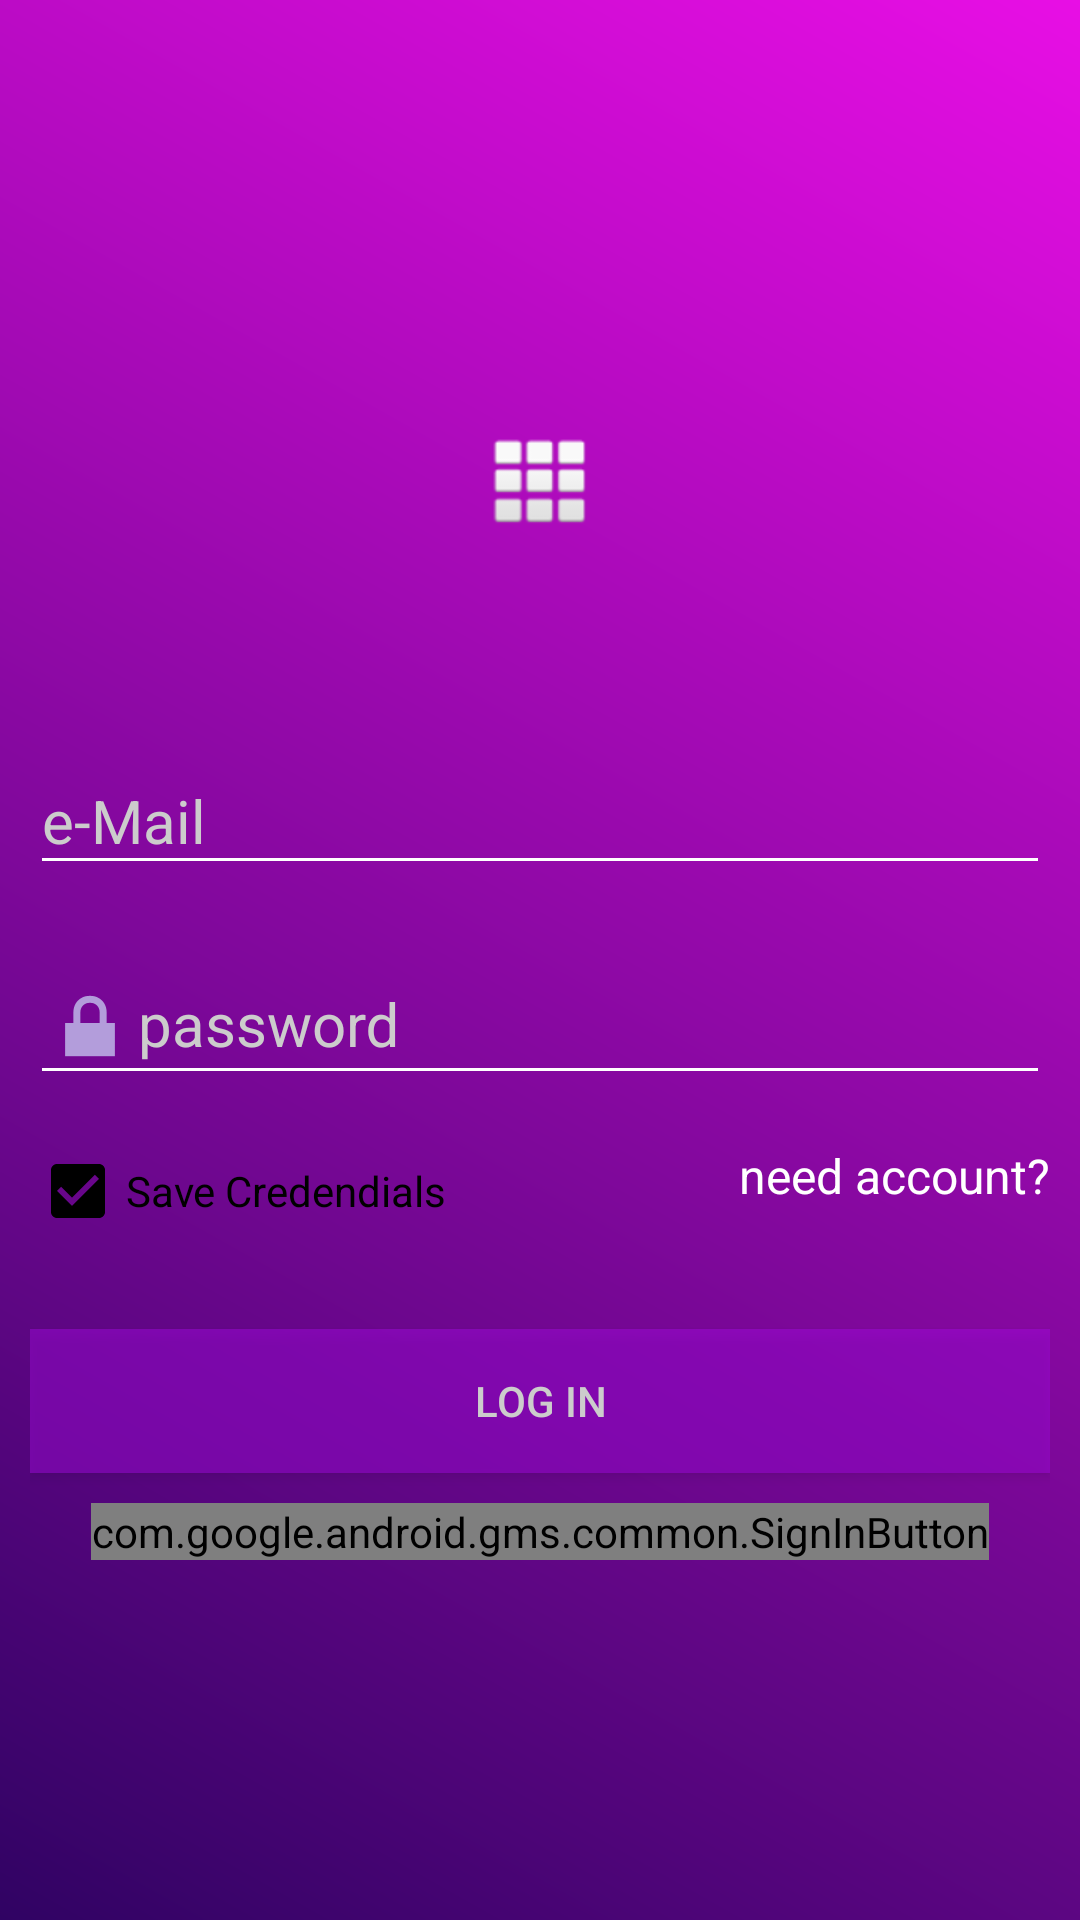

Point at icon controls on the screen. Image size 1080*1920, points as [x,y].
dialer: [539,481]
